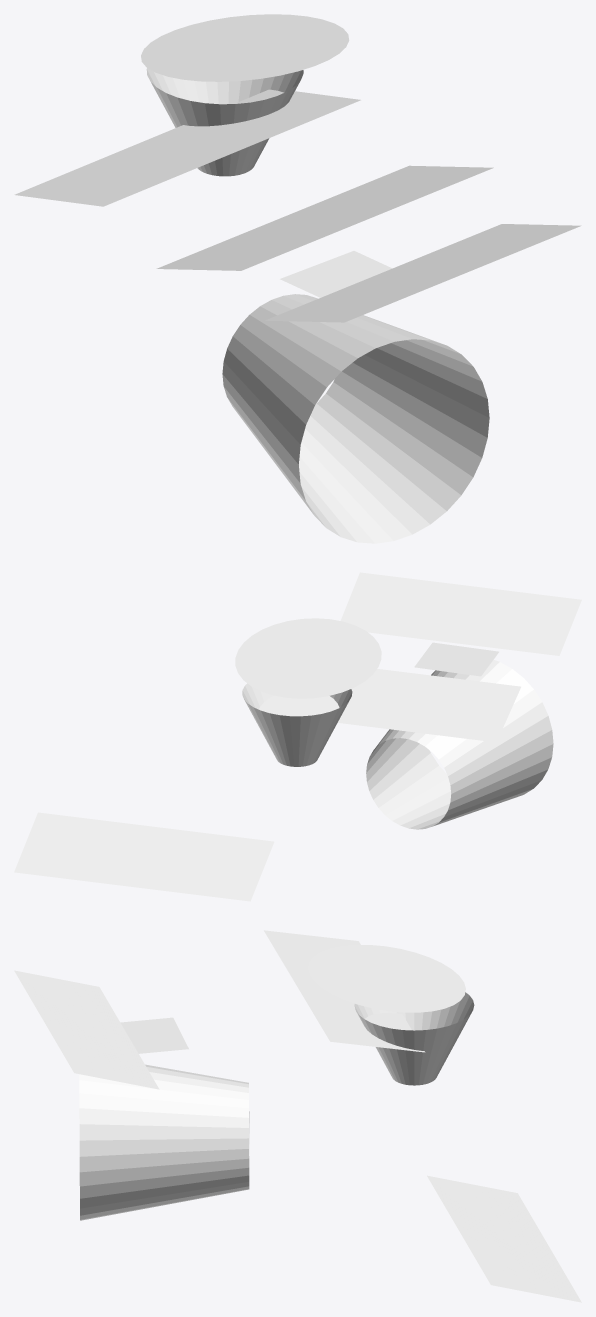
File: Oculus-Labels-R.fbx
The picture shows the model from 3 angles, top to bottom: view 1: azimuth 30°, elevation 25°; view 2: azimuth 150°, elevation 25°; view 3: azimuth 270°, elevation 25°; orthographic projection. The views are drawn at different scales.
Parts seen in each view (by area): view 1: Cylinder; view 2: Cylinder; view 3: Cylinder.
Part boxes in pixels (x1,y1,x2,y2): Cylinder: (14,14,581,543); Cylinder: (14,572,581,901); Cylinder: (14,930,581,1302).
Bounding box in the file's own units: 12.26 × 7.17 × 13.95.
Materials: 1 (1 with a texture image).
